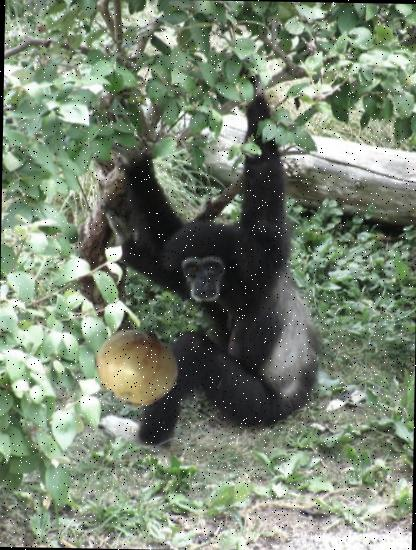Onion: (93, 324, 180, 410)
